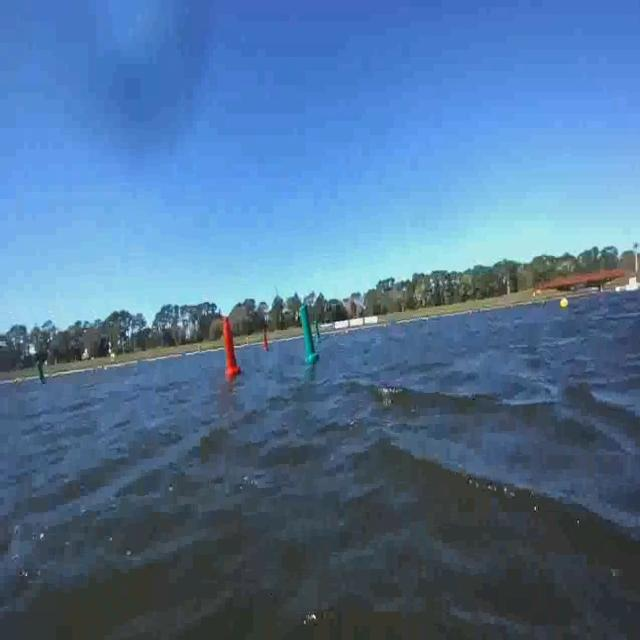green-column-buoy: (301, 305, 320, 363)
red-column-buoy: (224, 320, 242, 377), (264, 329, 271, 353)
yellow-buoy: (560, 296, 569, 311)
